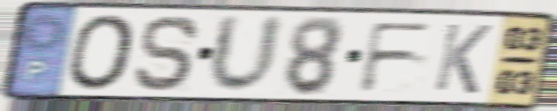8: (281, 13, 346, 99)
F: (356, 20, 437, 95)
K: (430, 21, 495, 97)
O: (66, 12, 139, 93)
S: (131, 13, 204, 94)
U: (205, 12, 287, 97)
